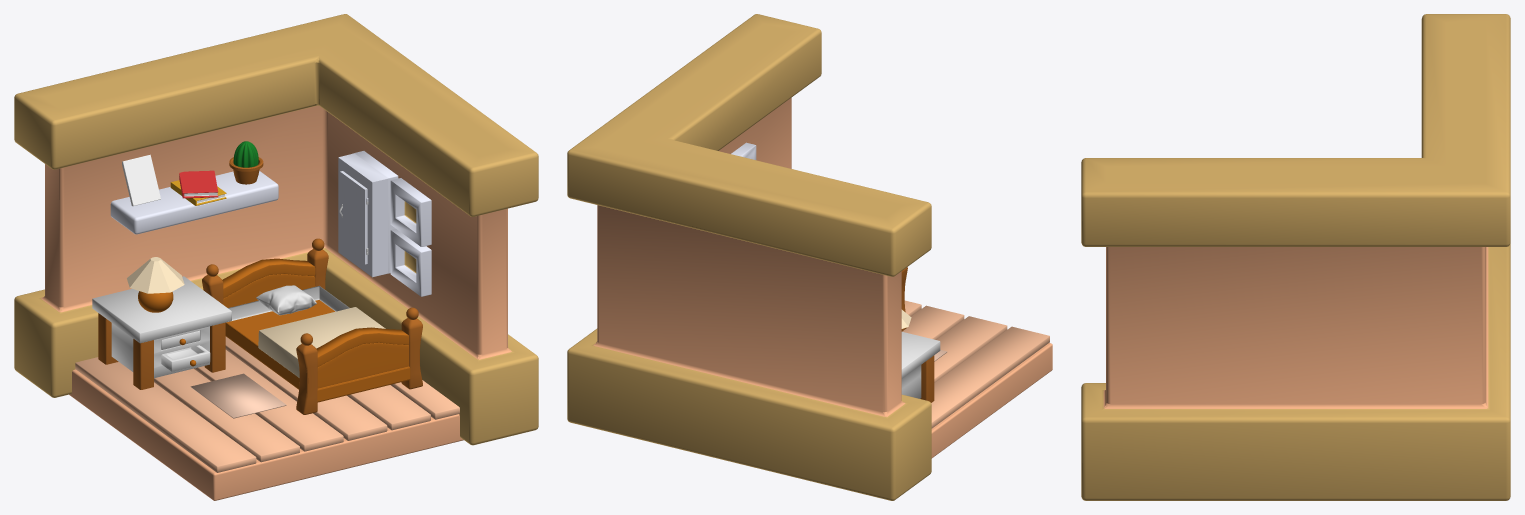
File: BEDROOM.glb
The picture shows the model from 3 angles, left to right: view 1: azimuth 30°, elevation 25°; view 2: azimuth 150°, elevation 25°; view 3: azimuth 270°, elevation 25°; orthographic projection. The views are drawn at different scales.
Visible parts, largest first — view 1: Cube, Plane.001, Plane, Cube.001, Plane.008, Plane.003, Cube.002, Plane.004, Plane.002, Plane.006, Plane.009, Plane.011 (+6 smaller); view 2: Cube, Plane.001, Plane, Plane.008, Plane.009; view 3: Cube.
Part boxes in pixels (x1,y1,x2,y2): Cube: [14, 14, 538, 445]; Plane.001: [75, 336, 459, 472]; Plane: [69, 369, 463, 500]; Cube.001: [338, 151, 431, 296]; Plane.008: [92, 276, 231, 378]; Plane.003: [222, 258, 408, 388]; Cube.002: [110, 171, 278, 234]; Plane.004: [202, 238, 422, 414]; Plane.002: [225, 300, 410, 402]; Plane.006: [258, 307, 385, 377]; Plane.009: [98, 313, 225, 389]; Plane.011: [190, 373, 286, 418]; Cube: [567, 14, 931, 500]; Plane.001: [902, 300, 1049, 428]; Plane: [931, 343, 1052, 458]; Plane.008: [901, 331, 940, 398]; Plane.009: [920, 355, 934, 402]; Cube: [1081, 14, 1510, 500].
Size of the model in its own units: 2.52 by 2.02 by 2.52.
